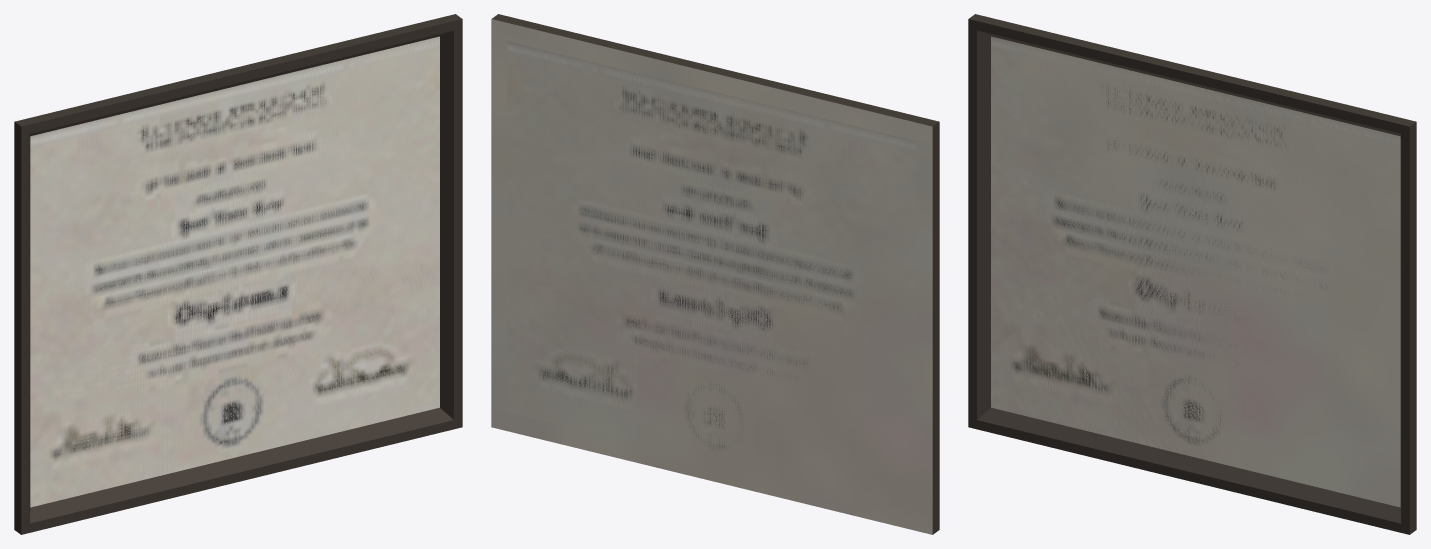
File: diploma01.dae
The picture shows the model from 3 angles, left to right: view 1: azimuth 30°, elevation 25°; view 2: azimuth 150°, elevation 25°; view 3: azimuth 330°, elevation 25°; orthographic projection.
Parts seen in each view (by area): view 1: pPlane3; view 2: pPlane3; view 3: pPlane3.
Part boxes in pixels (left/top/right/bottom): pPlane3: left=14, top=14, right=462, bottom=534; pPlane3: left=491, top=14, right=939, bottom=534; pPlane3: left=968, top=14, right=1416, bottom=534.
Size of the model in its own units: 26.66 by 23.58 by 0.7117.
